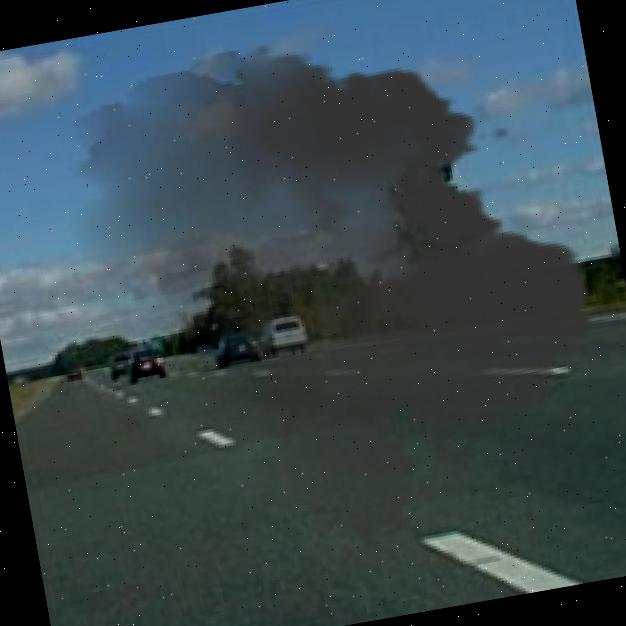smoke: (39, 0, 626, 597)
